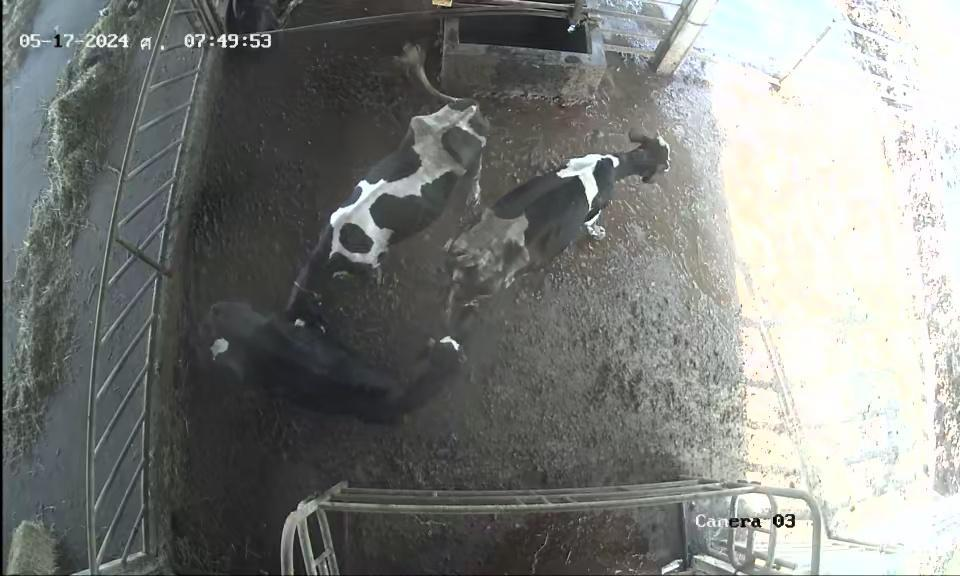stand: (431, 112, 691, 327), (271, 84, 493, 328), (193, 292, 472, 438)
